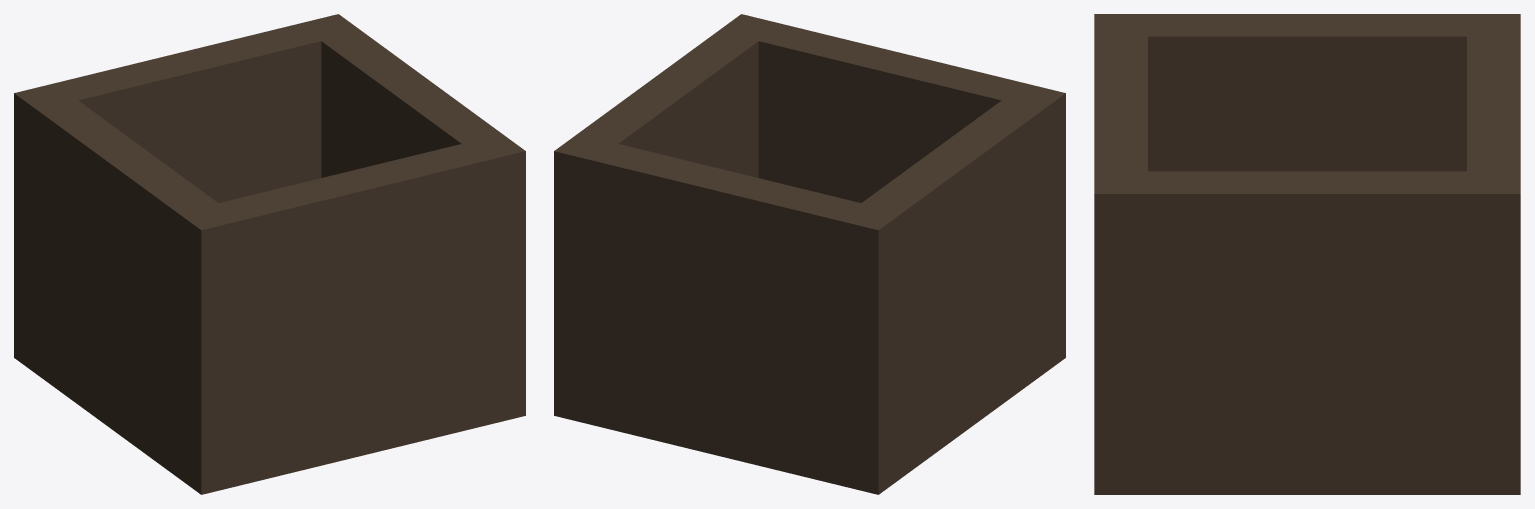
Rendered from Item_Equipment_Body_BasicTunic.fbx.
The picture shows the model from 3 angles, left to right: view 1: azimuth 30°, elevation 25°; view 2: azimuth 150°, elevation 25°; view 3: azimuth 270°, elevation 25°; orthographic projection. The views are drawn at different scales.
Parts seen in each view (by area): view 1: Item_Gear_Chest_BasicTunic; view 2: Item_Gear_Chest_BasicTunic; view 3: Item_Gear_Chest_BasicTunic.
Boxes of the visible parts, left/top/right/bottom form: Item_Gear_Chest_BasicTunic: left=14, top=14, right=525, bottom=494; Item_Gear_Chest_BasicTunic: left=554, top=14, right=1065, bottom=494; Item_Gear_Chest_BasicTunic: left=1094, top=14, right=1520, bottom=494.
Size of the model in its own units: 1.59 by 1.24 by 1.59.
